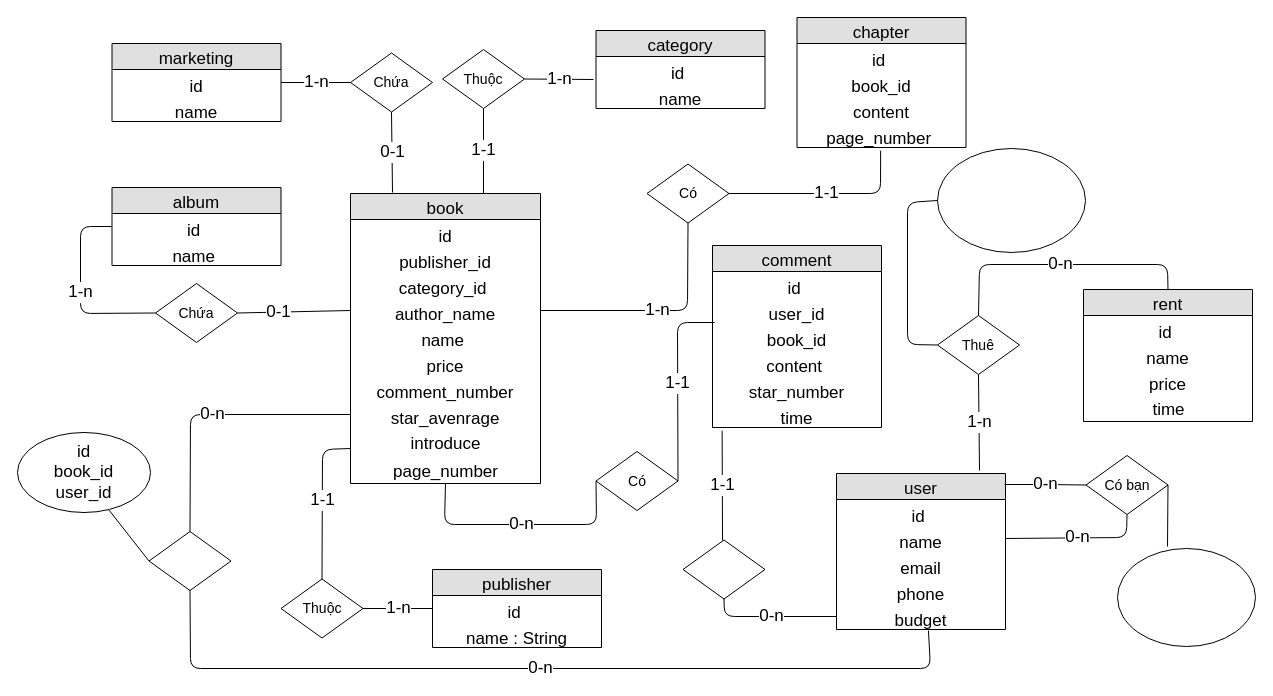
Image size: 1273x696. Some labels were removed from this diagram. The centre of each missing label's shape, as x and y in pixels:
"Của" belongs at (723,569).
"id id sender id receiver" belongs at (1186,597).
"id user_id rent_id time rest" belongs at (1011,200).
"mua" belongs at (189,560).
